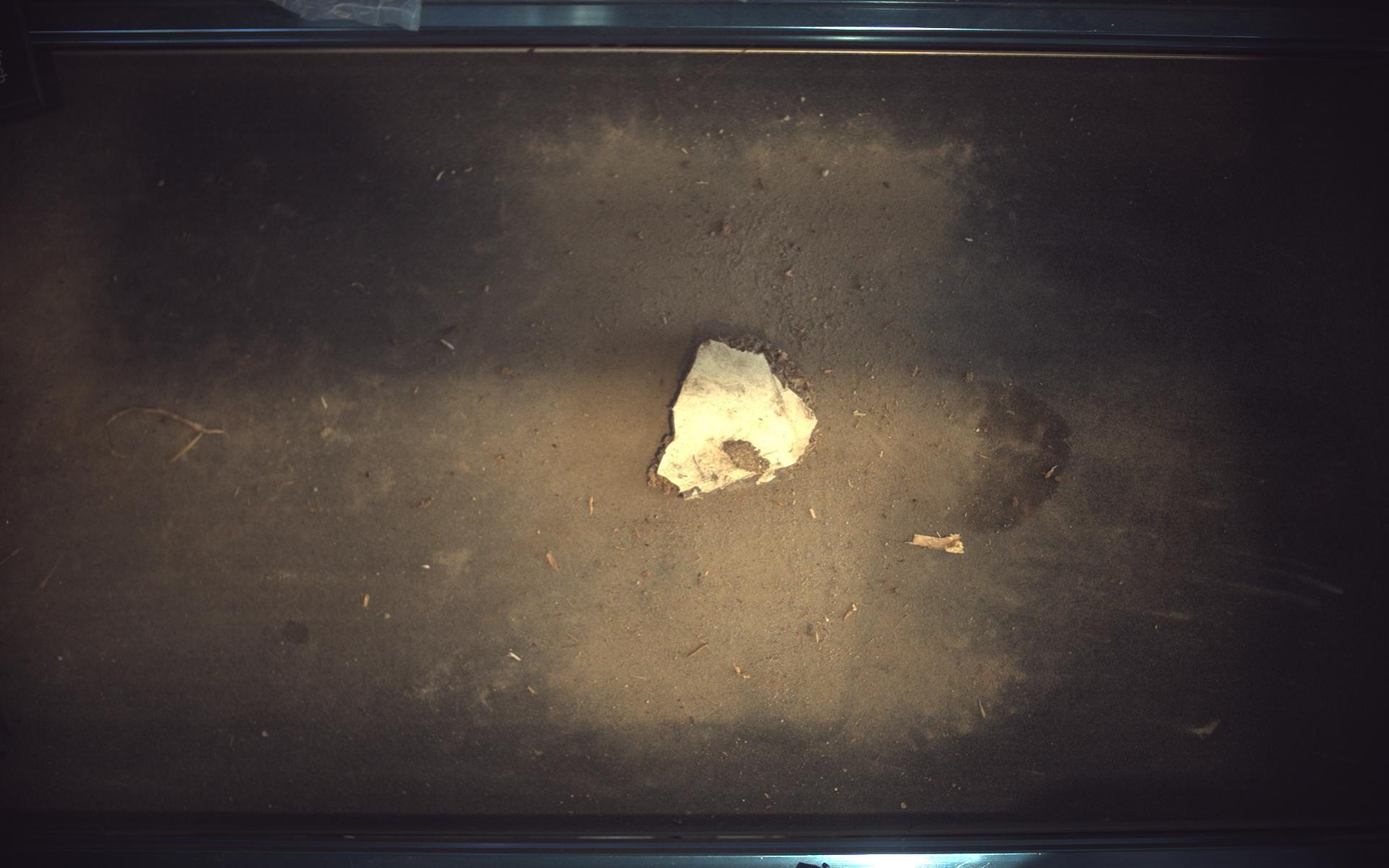wood: (649, 335, 818, 498)
